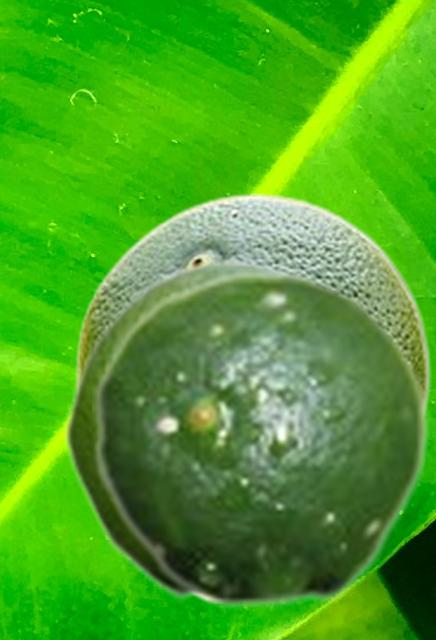calamansi: (75, 193, 430, 600), (92, 269, 430, 610), (62, 256, 318, 601)
